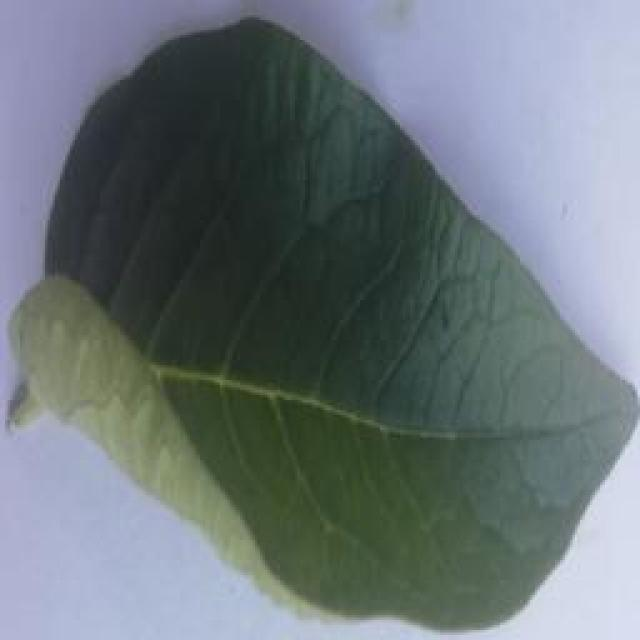Potato_Healthy: (7, 13, 625, 629)
